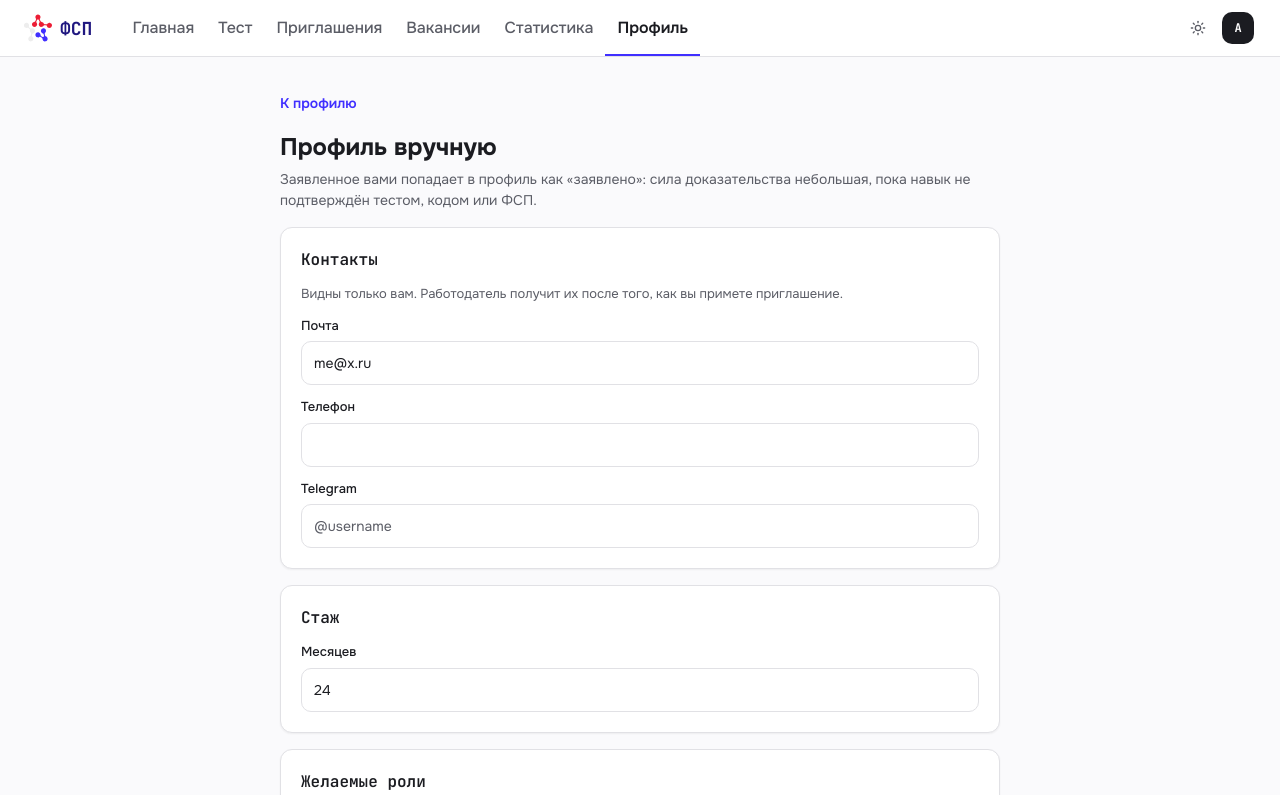
Test: невалидная почта блокирует отправку
Replace the text in the field with test id "profile-edit-email" with "nope" at (640, 363), box [301,341,979,385]
(page scrolled)
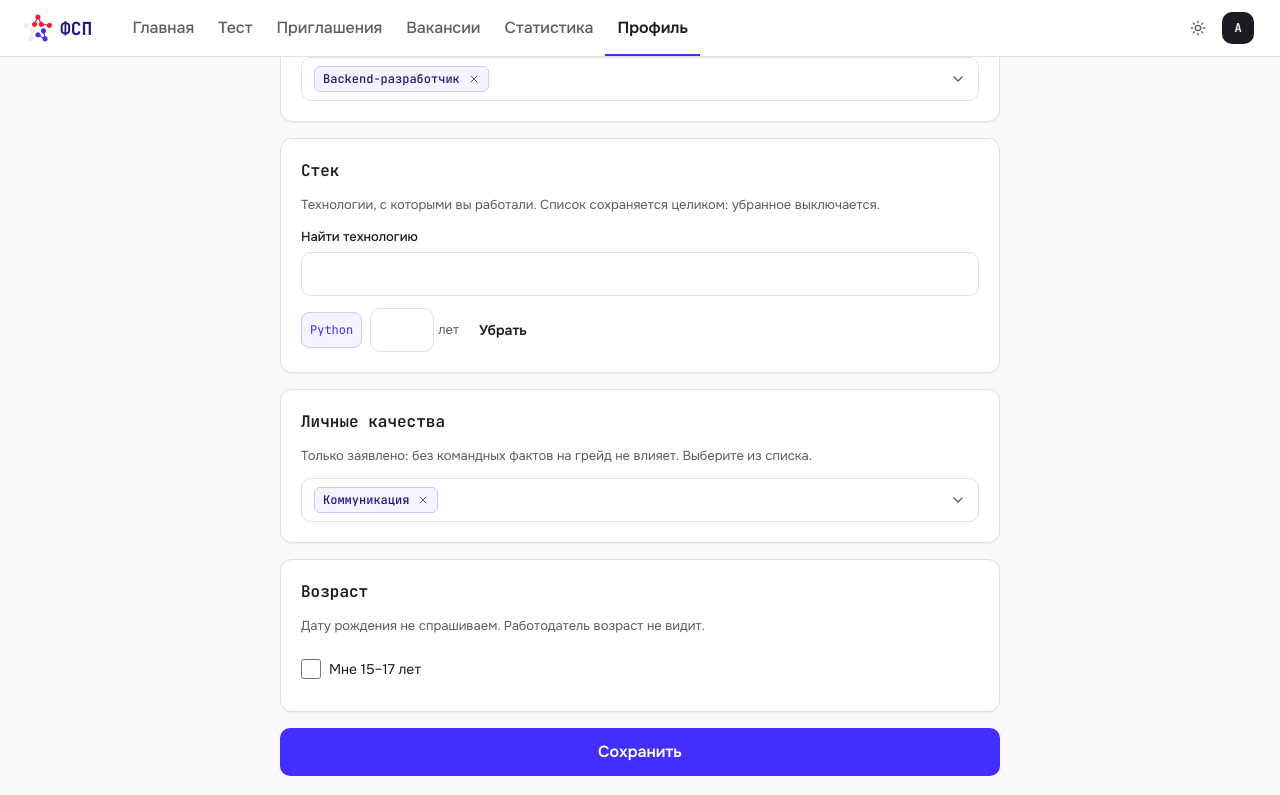
Click the button with test id "profile-edit-save" at (640, 752), box [280,728,1000,776]
(page scrolled)
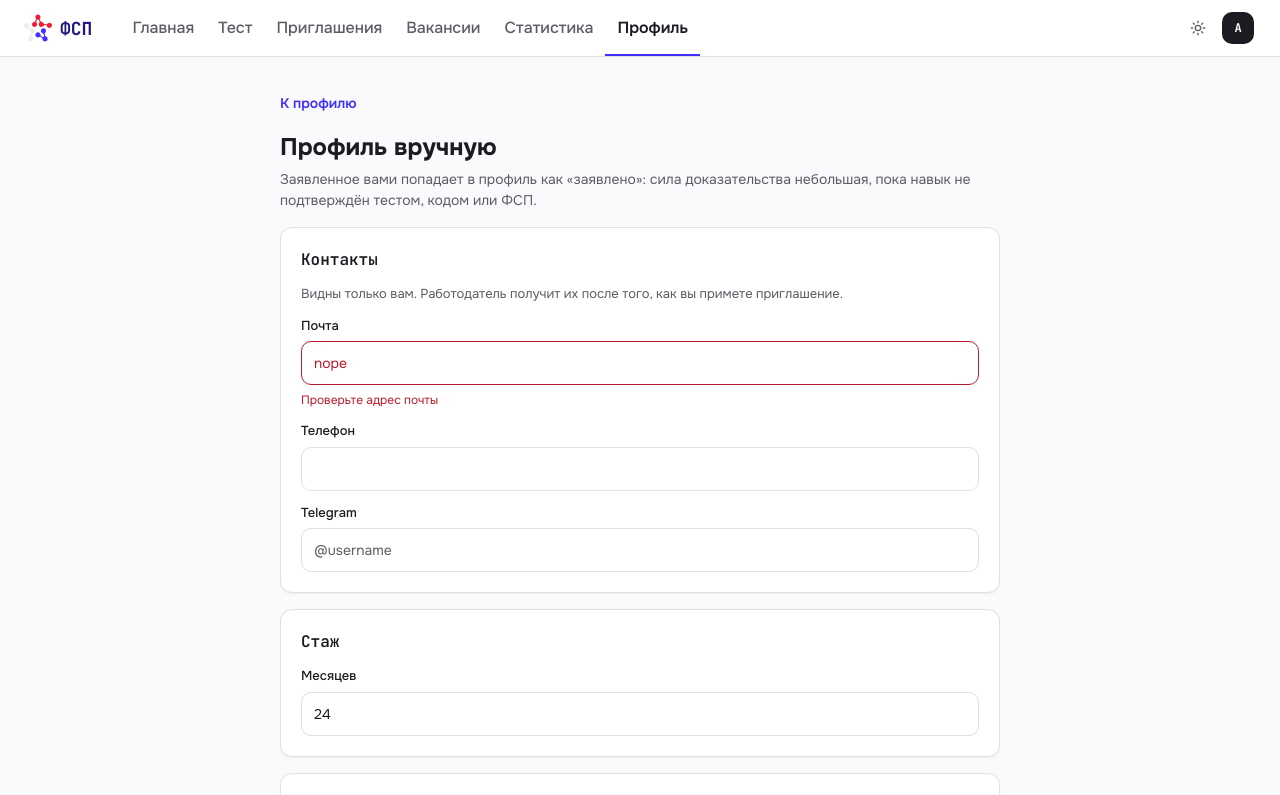
Expected: the text "Проверьте адрес почты" is shown, [301,392,438,408]
